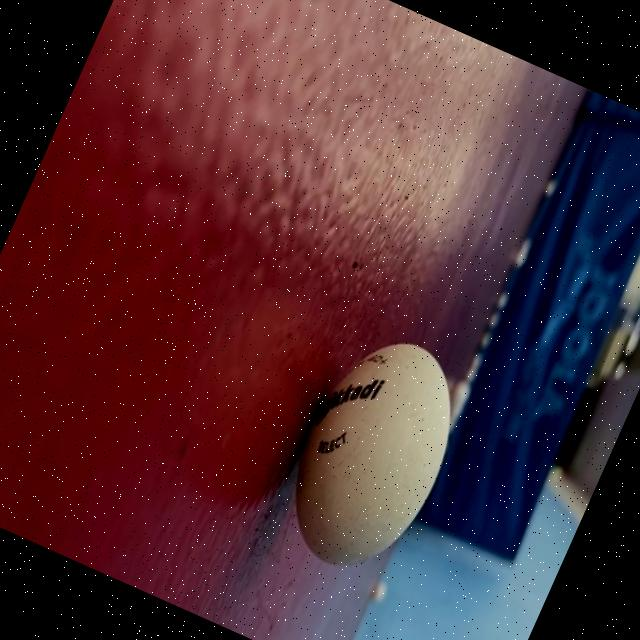ping-pong-ball: (219, 282, 505, 634)
